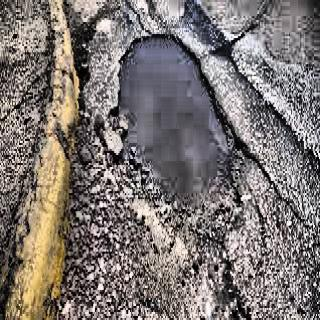alligator-crack: (64, 128, 108, 314), (68, 13, 97, 104)
crack: (252, 142, 306, 229), (123, 3, 148, 24)
pothole: (111, 31, 248, 230)
